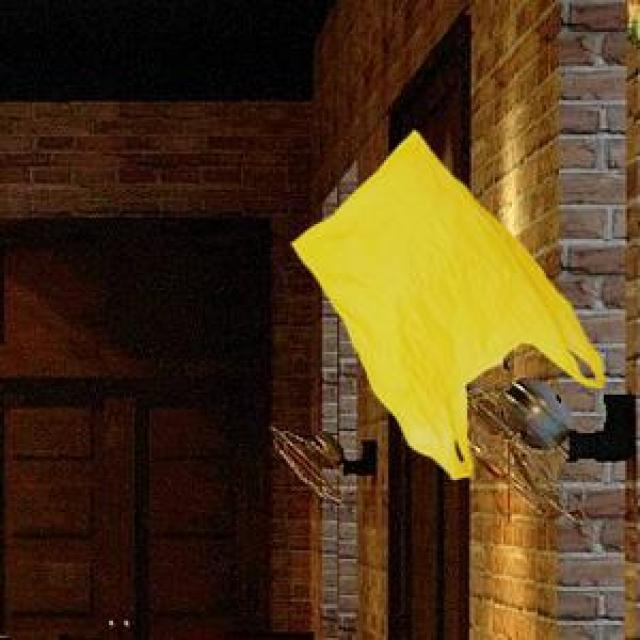waste: (292, 131, 604, 478)
